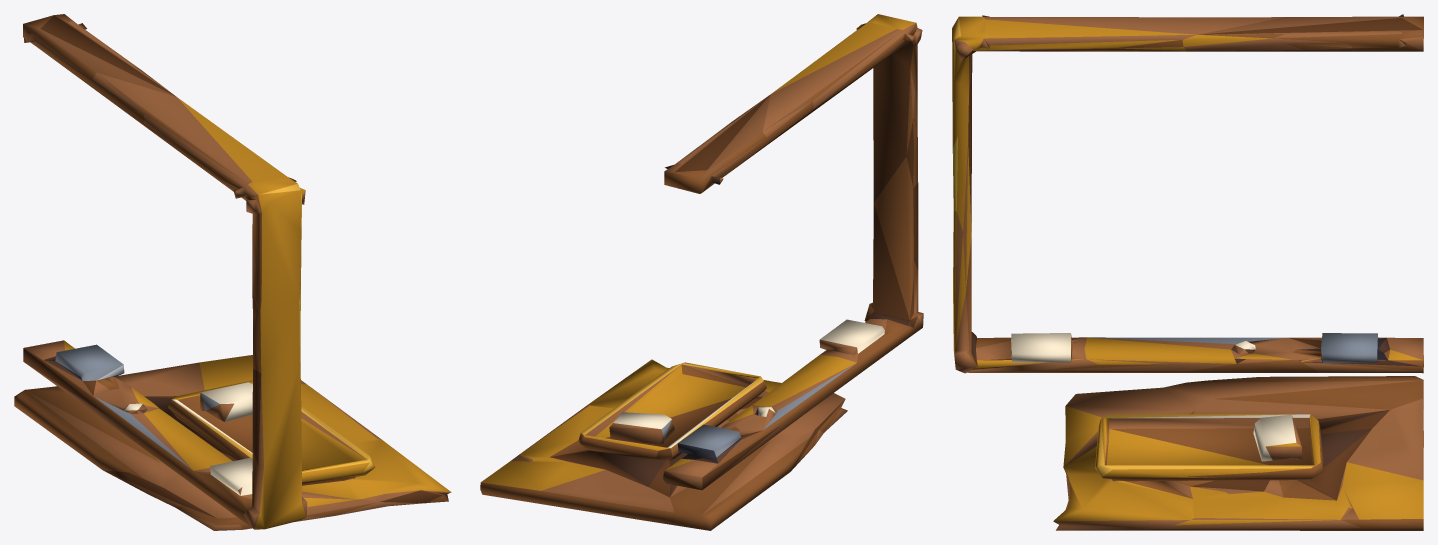
The model's file is SM_sign_stand_wood.glb.
The picture shows the model from 3 angles, left to right: view 1: azimuth 30°, elevation 25°; view 2: azimuth 150°, elevation 25°; view 3: azimuth 270°, elevation 25°; orthographic projection. The views are drawn at different scales.
Visible parts, largest first — view 1: SM_sign_stand_wood; view 2: SM_sign_stand_wood; view 3: SM_sign_stand_wood.
Boxes of the visible parts, x1,y1,x2,y2 form: SM_sign_stand_wood: (14,14,451,530); SM_sign_stand_wood: (480,14,923,530); SM_sign_stand_wood: (952,14,1423,530).
Size of the model in its own units: 0.7857 by 1.2 by 1.28.
Materials: 1 (1 with a texture image).
